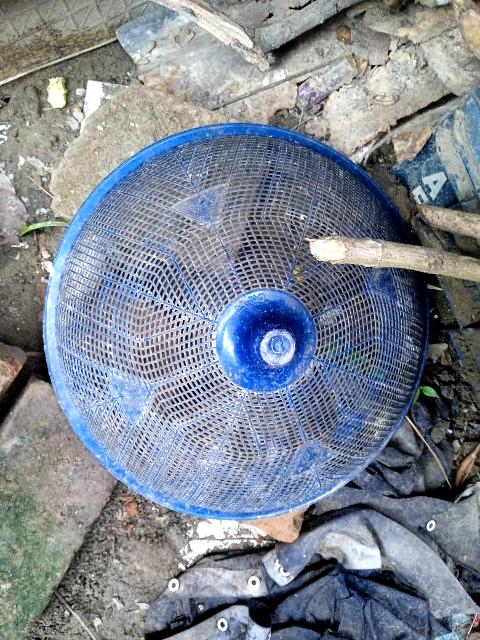hardplastic: (0, 130, 426, 525)
